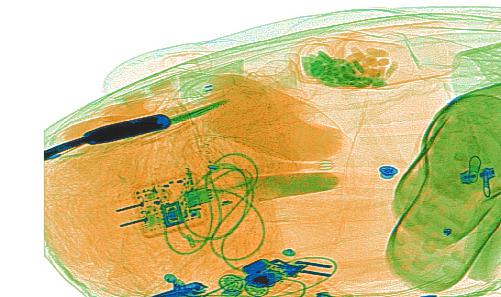battery: (240, 255, 274, 276)
